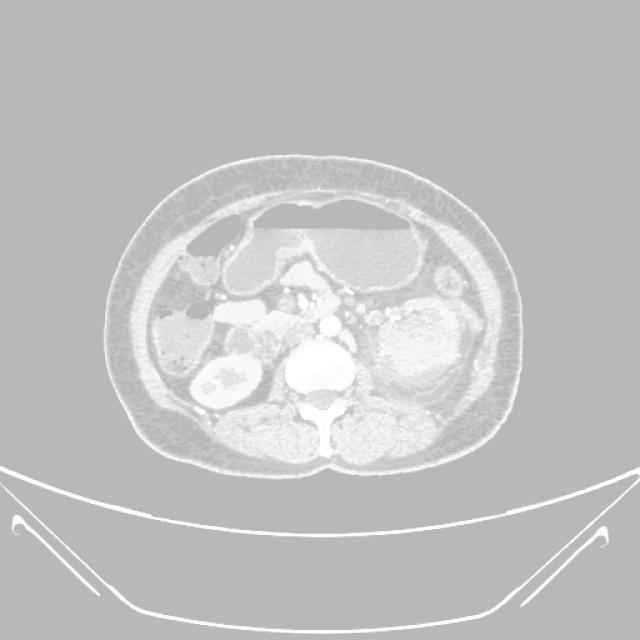TUMOR: (139, 172, 515, 429)
